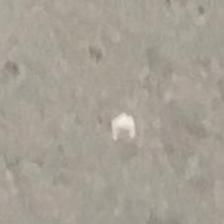Non_Crack: (23, 31, 206, 207)
